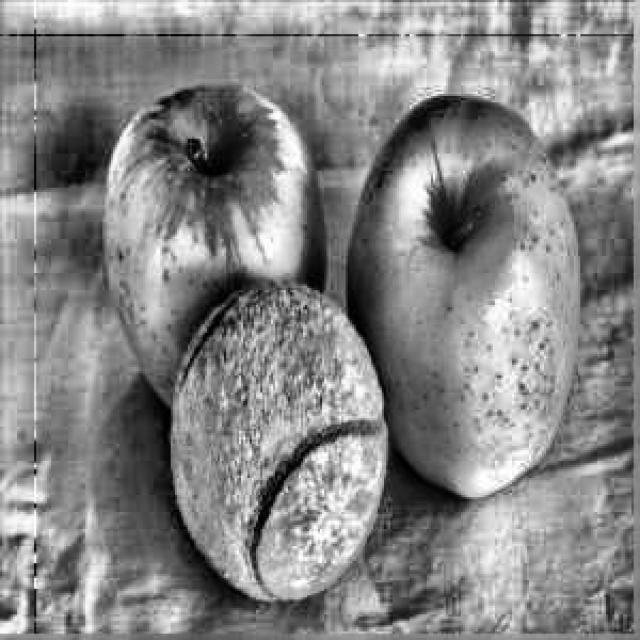tennis-ball: (171, 284, 387, 602)
